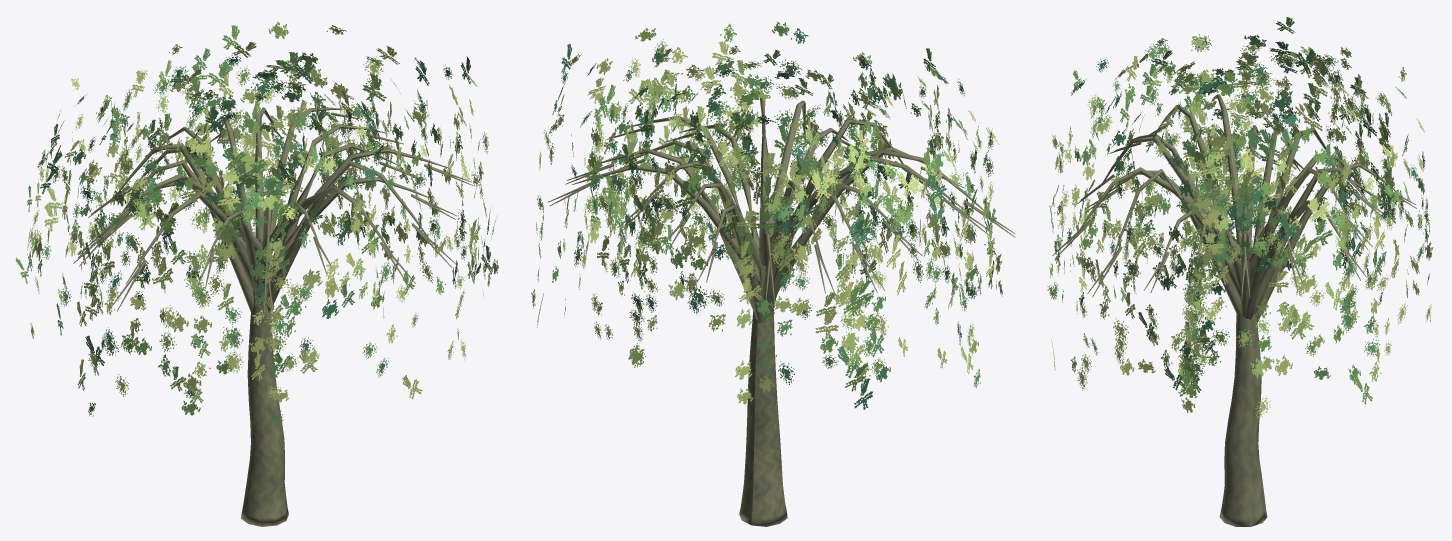
The model's file is Tree_Willow_02_Old_Spreading_LOD1.glb.
3 views of the same model, side by side, from view 1: azimuth 30°, elevation 25°; view 2: azimuth 150°, elevation 25°; view 3: azimuth 270°, elevation 25° (orthographic). The views are drawn at different scales.
Parts seen in each view (by area): view 1: Tree_Willow_02_Old_Spreading_LOD1; view 2: Tree_Willow_02_Old_Spreading_LOD1; view 3: Tree_Willow_02_Old_Spreading_LOD1.
Part boxes in pixels (x1,y1,x2,y2): Tree_Willow_02_Old_Spreading_LOD1: (15,21,498,526); Tree_Willow_02_Old_Spreading_LOD1: (531,22,1015,526); Tree_Willow_02_Old_Spreading_LOD1: (1047,17,1433,526).
Bounding box in the file's own units: 9.26 × 9.01 × 7.54.
2 materials, 2 textured.
